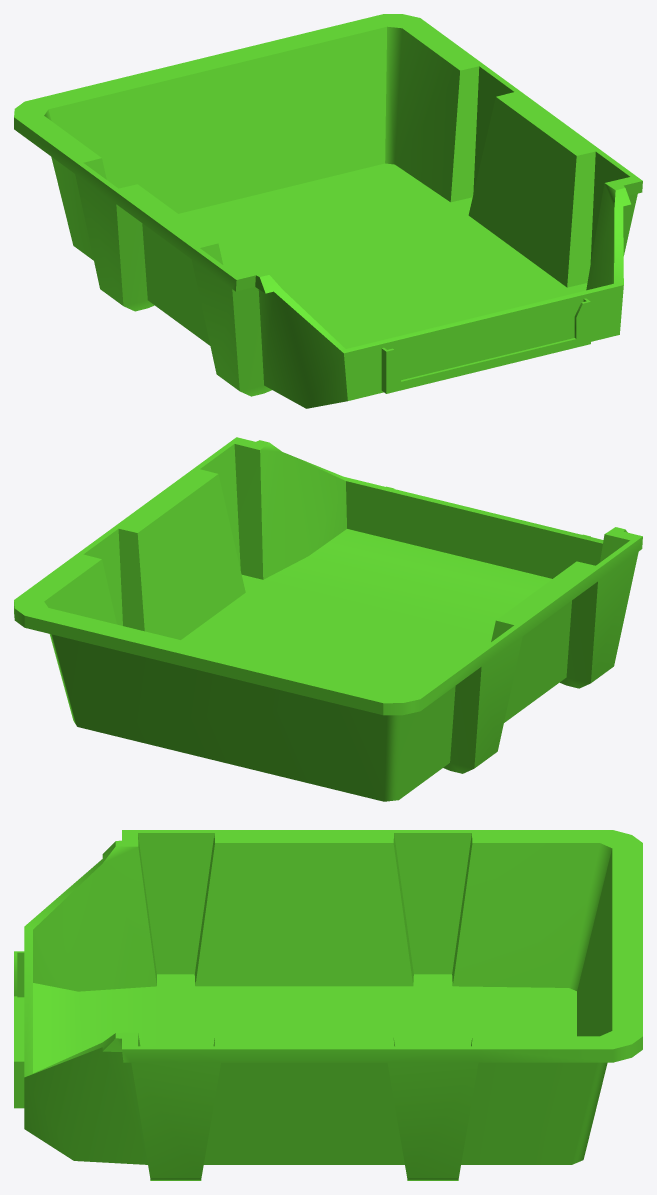
The model's file is CratePlastic_White_05.FBX.
The picture shows the model from 3 angles, top to bottom: view 1: azimuth 30°, elevation 25°; view 2: azimuth 150°, elevation 25°; view 3: azimuth 270°, elevation 25°; orthographic projection. The views are drawn at different scales.
Visible parts, largest first — view 1: SM_CratePlastic_B_02_LOD0; view 2: SM_CratePlastic_B_02_LOD0; view 3: SM_CratePlastic_B_02_LOD0.
Boxes of the visible parts, left/top/right/bottom form: SM_CratePlastic_B_02_LOD0: left=14, top=14, right=642, bottom=408; SM_CratePlastic_B_02_LOD0: left=14, top=437, right=642, bottom=801; SM_CratePlastic_B_02_LOD0: left=14, top=830, right=642, bottom=1180.
Size of the model in its own units: 43.68 by 13.63 by 52.99.
